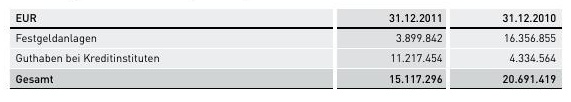table: (0, 0, 571, 102)
